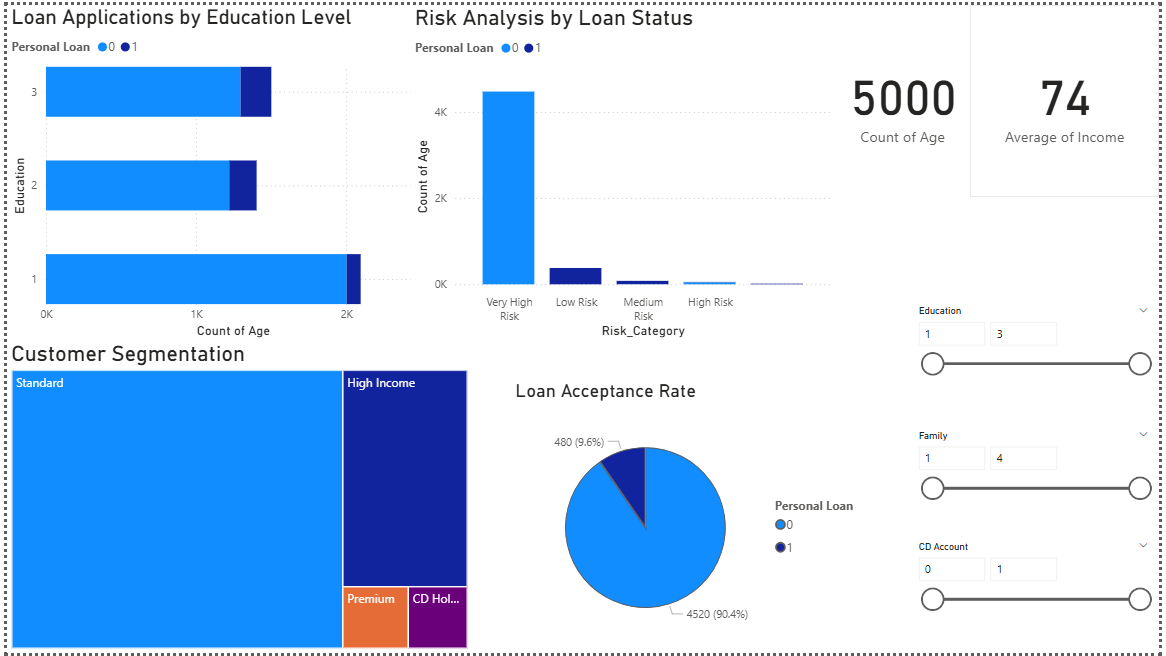

What the dashboard file says about the page in this screenshot:
{"tool":"powerbi","page":{"name":"Page 2","canvas":[1280,720],"ordinal":0},"visuals":[{"type":"pieChart","title":"Loan Acceptance Rate","fields":{"Category":["bank_loan_data_with_predictions.Personal Loan"],"Y":["CountNonNull(bank_loan_data_with_predictions.Age)"]},"box":[560,416,402,304],"z":0},{"type":"card","fields":{"Values":["CountNonNull(bank_loan_data_with_predictions.Age)"]},"box":[890,0,210,214],"z":1000},{"type":"card","fields":{"Values":["Avg(bank_loan_data_with_predictions.Income)"]},"box":[1070,0,210,214],"z":2000},{"type":"barChart","title":"Loan Applications by Education Level","fields":{"Category":["bank_loan_data_with_predictions.Education"],"Y":["CountNonNull(bank_loan_data_with_predictions.Age)"],"Series":["bank_loan_data_with_predictions.Personal Loan"]},"box":[0,0,472,374],"z":3000},{"type":"slicer","fields":{"Values":["bank_loan_data_with_predictions.Education"]},"box":[1000,328,280,140],"z":4000},{"type":"slicer","fields":{"Values":["bank_loan_data_with_predictions.Family"]},"box":[1000,466,280,130],"z":5000},{"type":"slicer","fields":{"Values":["bank_loan_data_with_predictions.CD Account"]},"box":[1000,590,280,130],"z":6000},{"type":"columnChart","title":"Risk Analysis by Loan Status","fields":{"Category":["bank_loan_data_with_predictions.Risk_Category"],"Y":["CountNonNull(bank_loan_data_with_predictions.Age)"],"Series":["bank_loan_data_with_predictions.Personal Loan"]},"box":[448,0,472,374],"z":7000},{"type":"treemap","title":"Customer Segmentation","fields":{"Group":["bank_loan_data_with_predictions.Customer_Segment"],"Values":["CountNonNull(bank_loan_data_with_predictions.Age)"]},"box":[0,374,516,346],"z":8000}]}

Visuals, with their boxes in screenshot pixels (x1, y1, x2, y2), scaled from the page's 1280x720 canvas onto the 1166x656 screenshot:
"Loan Acceptance Rate" pieChart: left=510, top=379, right=876, bottom=655
card - CountNonNull(bank_loan_data_with_predictions.Age): left=811, top=0, right=1002, bottom=195
card - Avg(bank_loan_data_with_predictions.Income): left=975, top=0, right=1165, bottom=195
"Loan Applications by Education Level" barChart: left=0, top=0, right=430, bottom=341
slicer - bank_loan_data_with_predictions.Education: left=911, top=299, right=1165, bottom=426
slicer - bank_loan_data_with_predictions.Family: left=911, top=425, right=1165, bottom=543
slicer - bank_loan_data_with_predictions.CD Account: left=911, top=538, right=1165, bottom=655
"Risk Analysis by Loan Status" columnChart: left=408, top=0, right=838, bottom=341
"Customer Segmentation" treemap: left=0, top=341, right=470, bottom=655
